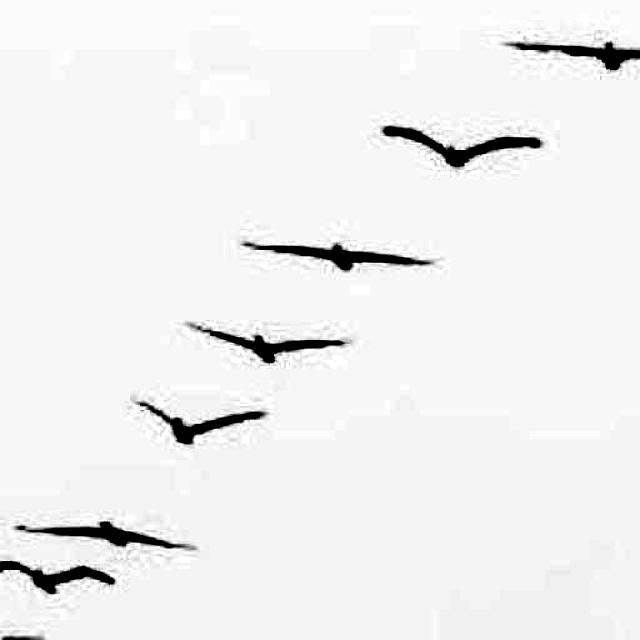airplane: (15, 515, 191, 559), (380, 124, 546, 170), (184, 320, 350, 364), (241, 240, 439, 274), (132, 398, 262, 449), (0, 558, 118, 598), (502, 38, 640, 71)
